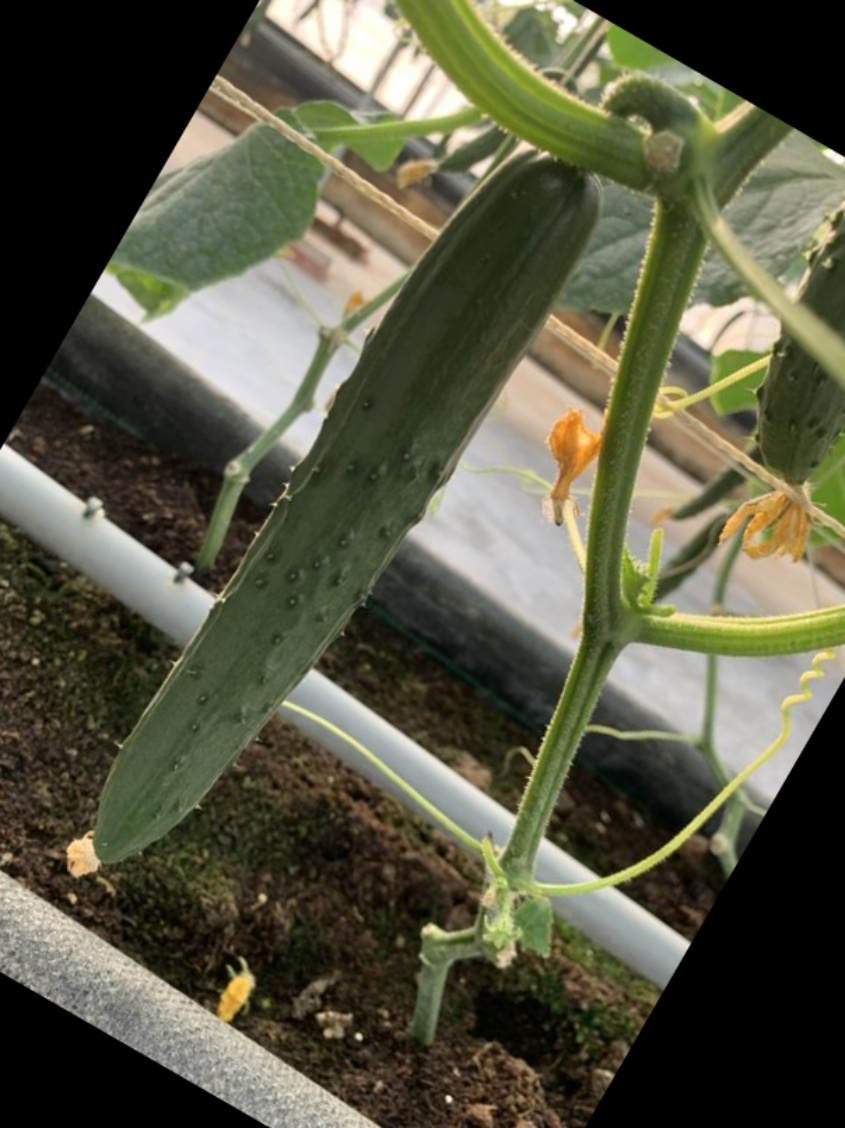mature: (57, 171, 575, 871)
